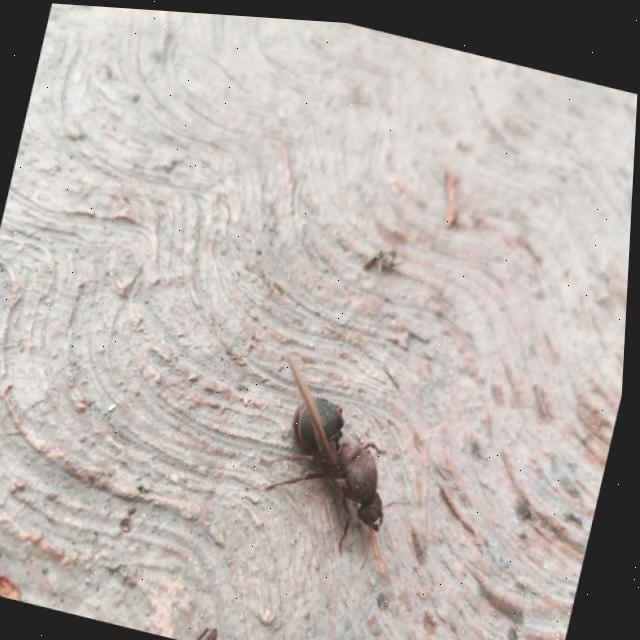Alive-Female-Alate: (244, 346, 440, 574)
